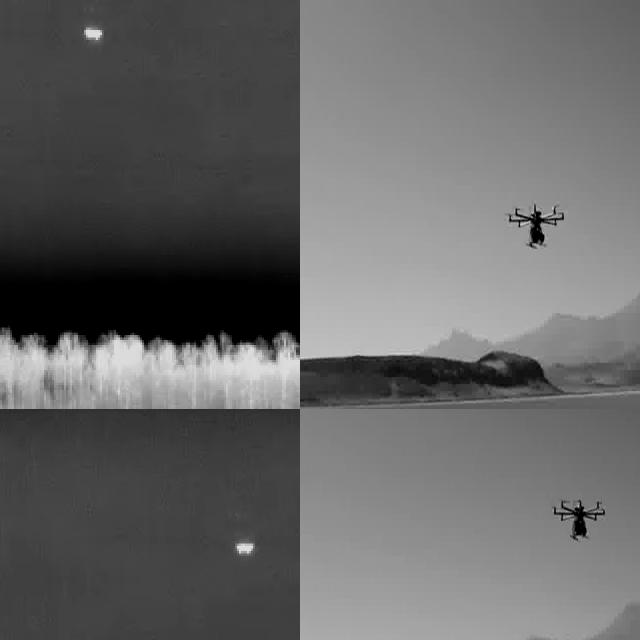1: (74, 22, 110, 52), (225, 537, 261, 567)
drone: (504, 199, 566, 253), (550, 491, 605, 544)
